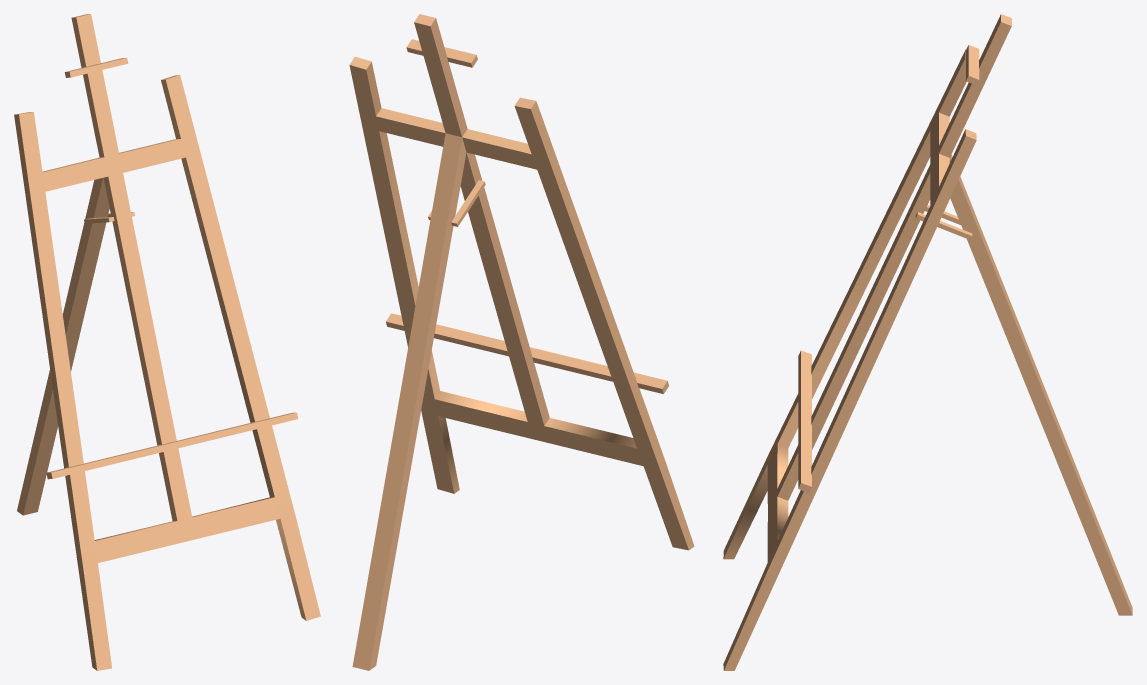
File: easel.fbx
The picture shows the model from 3 angles, left to right: view 1: azimuth 30°, elevation 25°; view 2: azimuth 150°, elevation 25°; view 3: azimuth 270°, elevation 25°; orthographic projection. The views are drawn at different scales.
Visible parts, largest first — view 1: pCube2; view 2: pCube2; view 3: pCube2.
Part boxes in pixels (box(x1,y1,x2,y2)): pCube2: box(14, 14, 320, 670); pCube2: box(349, 14, 694, 670); pCube2: box(723, 14, 1132, 670).
Bounding box in the file's own units: 66.56 × 139 × 86.81.
1 material, 1 textured.
